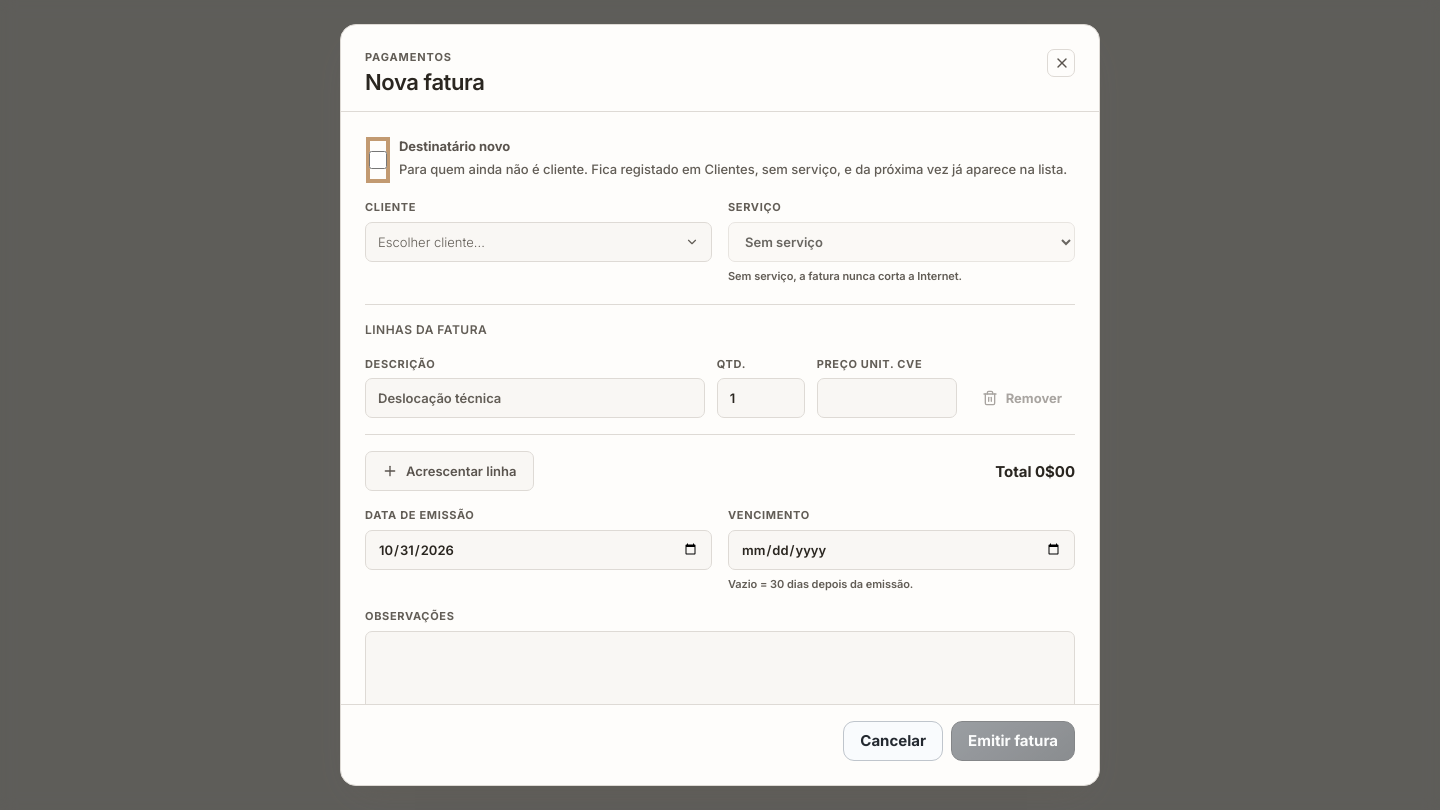
Test case: explains Stripe email prerequisite for new recipient
Click the checkbox: {"x": 378, "y": 160} [369, 140, 387, 180]
(page scrolled)
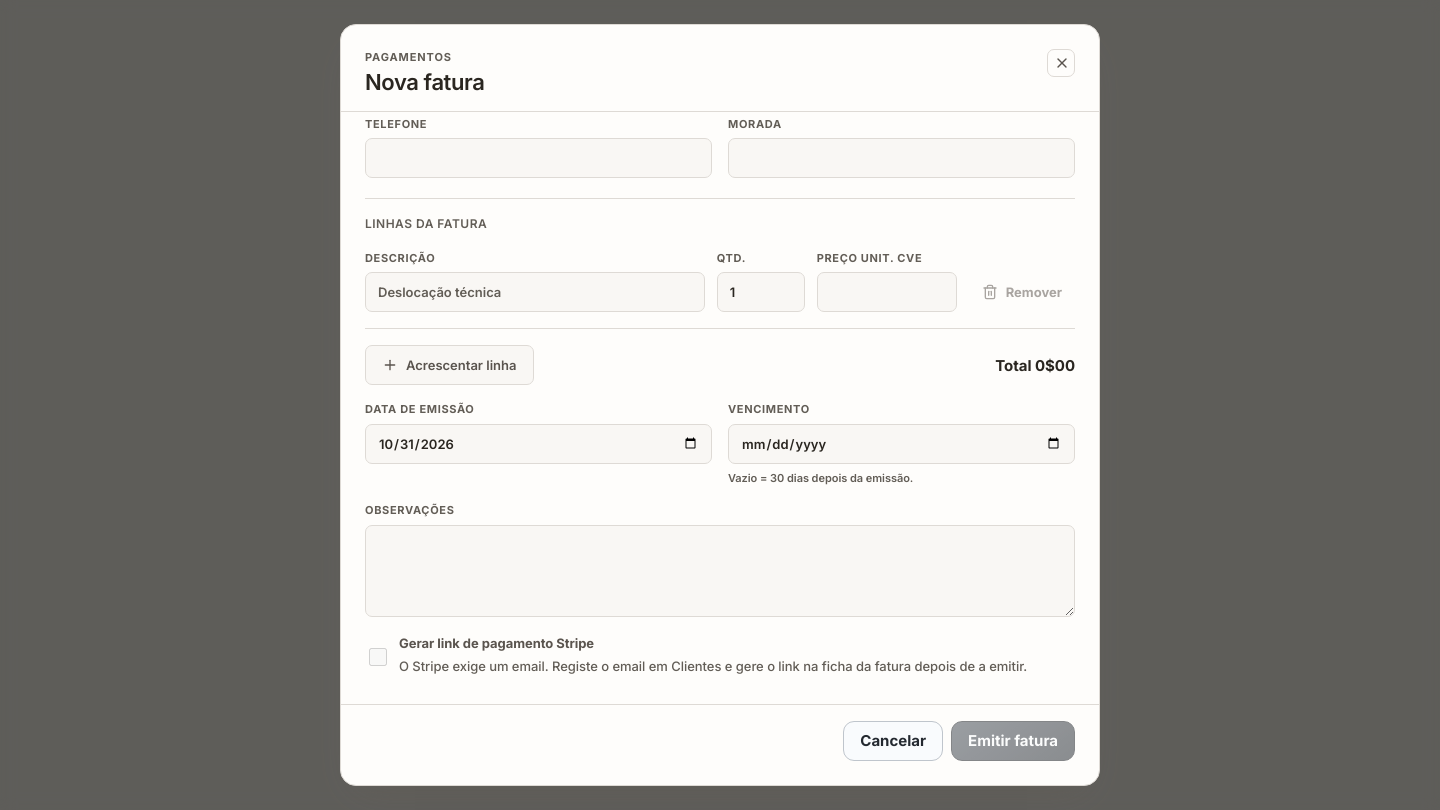
Check: the checkbox is disabled, box [369, 637, 387, 677]
Check: the label that starts with "Gerar link de pagamento Stripe" shows "email", box [399, 658, 1027, 674]
